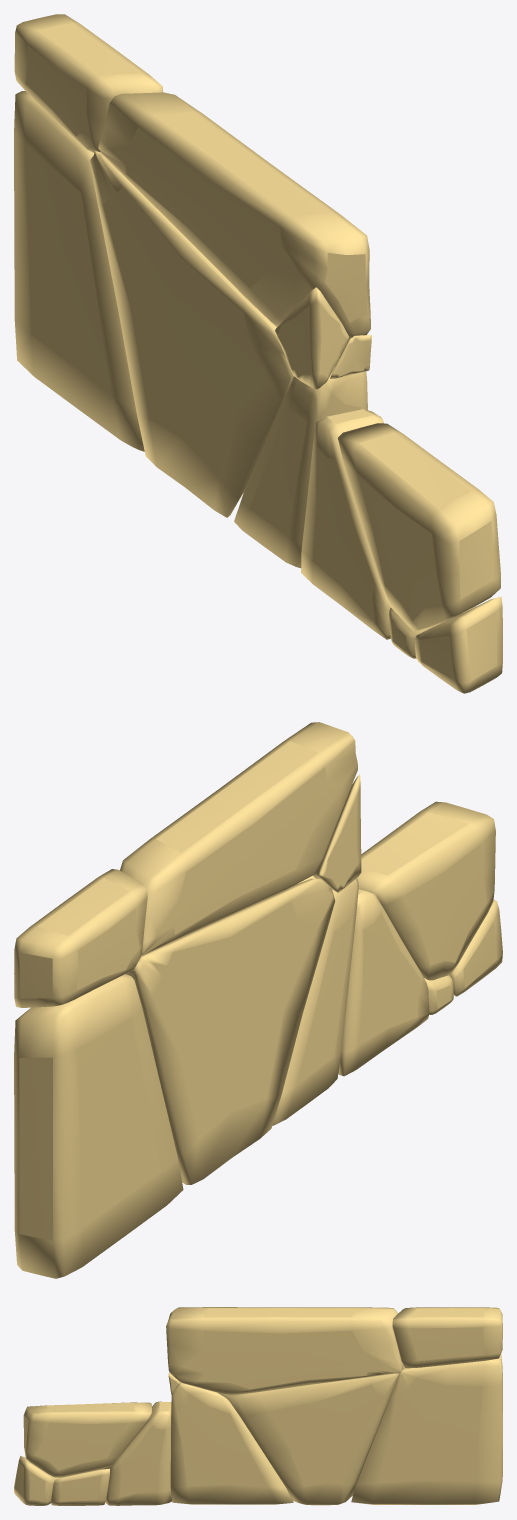
File: Mesh_StoneWall_Side.fbx
3 renders of one model, top to bottom at view 1: azimuth 30°, elevation 25°; view 2: azimuth 150°, elevation 25°; view 3: azimuth 270°, elevation 25°, orthographic. The views are drawn at different scales.
Parts seen in each view (by area): view 1: Muro_piedras_intmodular2:Mesh; view 2: Muro_piedras_intmodular2:Mesh; view 3: Muro_piedras_intmodular2:Mesh.
Part boxes in pixels (x1=…): Muro_piedras_intmodular2:Mesh: x1=14, y1=14, x2=502, y2=693; Muro_piedras_intmodular2:Mesh: x1=14, y1=722, x2=502, y2=1278; Muro_piedras_intmodular2:Mesh: x1=14, y1=1307, x2=502, y2=1505.
Bounding box in the file's own units: 0.757 × 4.4 × 10.36.
